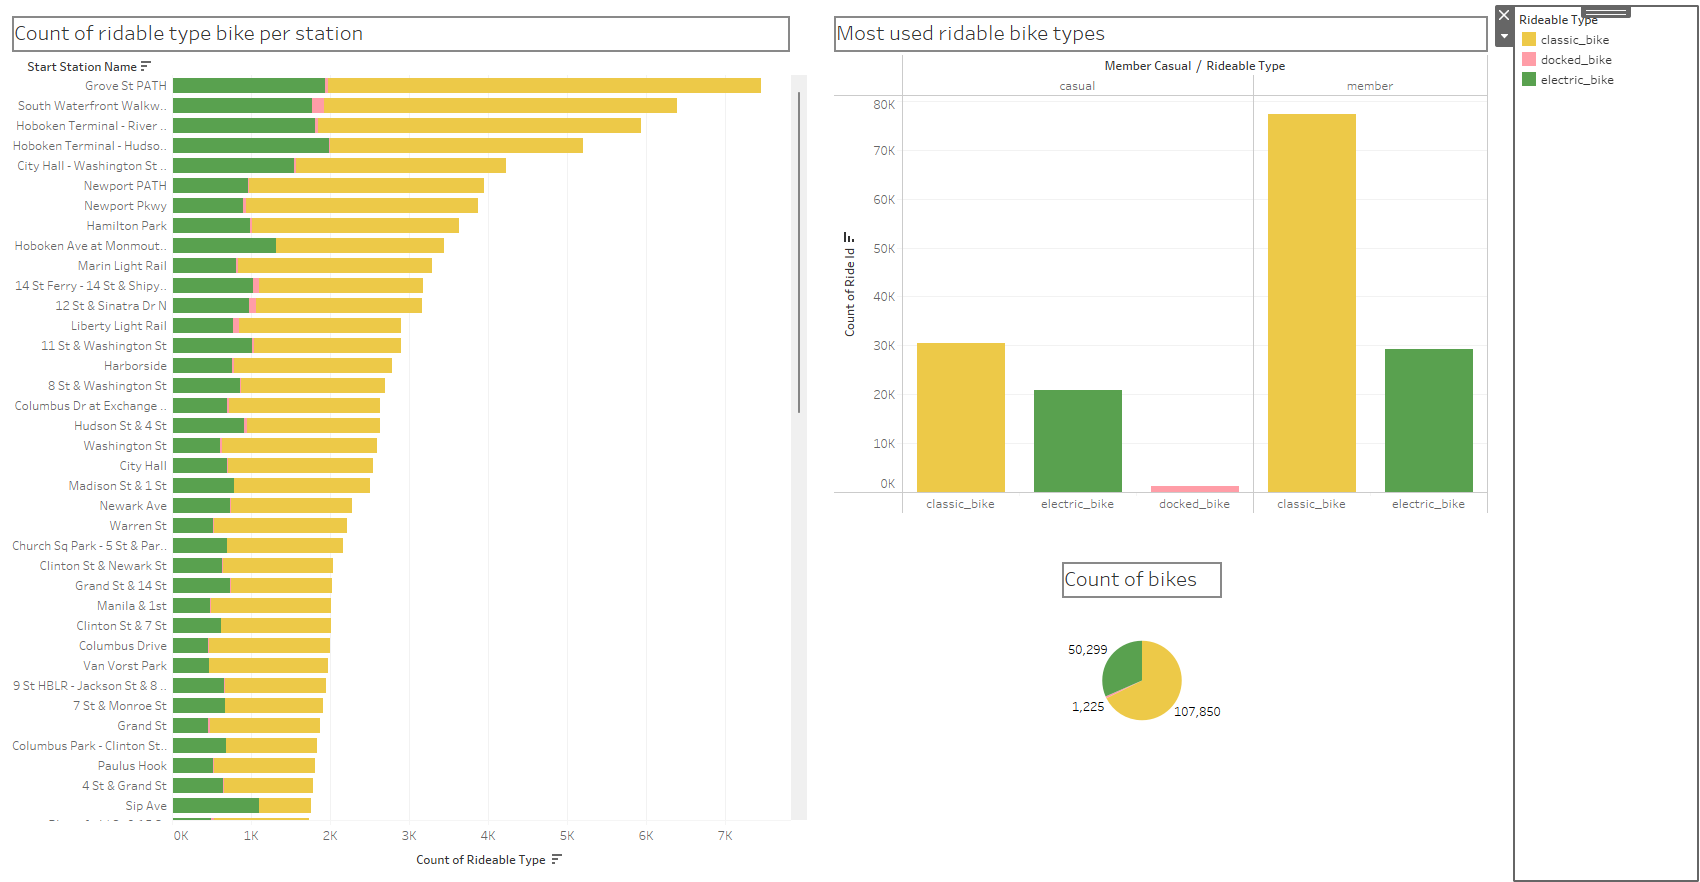

The page's visual inventory and layout, read from the dashboard file:
{"tool":"tableau","page":{"name":"Dashboard 2- ridable type analysis","canvas":[1000,1000],"units":"permille","ordinal":2},"visuals":[{"type":"legend","title":"Most used ridable bike types","param":"[federated.15f04g41qdr9iw1bvkwrk0wuixlj].[none:rideable_type:nk]","box":[888.8,9,106.5,982]},{"type":"worksheet","title":"count of ridable type bike per station","mark":"Automatic","rows":["start_station_name"],"cols":["rideable_type"],"box":[9.4,19.2,465.3,966.1]},{"type":"worksheet","title":"Most used ridable bike types","mark":"Automatic","rows":["ride_id"],"cols":["member_casual","rideable_type"],"box":[490.2,19.2,382.5,559.6]},{"type":"worksheet","title":"Count of bikes","mark":"Pie","box":[623.7,633.3,174.1,340.2]}]}

Visuals, with their boxes on the dashboard's canvas, which has no fixed pixel size, in thousandths of its width and height (x1, y1, x2, y2). These are canvas units, not pixel positions in the 1700x882 screenshot, which may show the page scaled, cropped or inside an application window:
"Most used ridable bike types" legend: 889:9:995:991
"count of ridable type bike per station" worksheet: 9:19:475:985
"Most used ridable bike types" worksheet: 490:19:873:579
"Count of bikes" worksheet (Pie marks): 624:633:798:974
